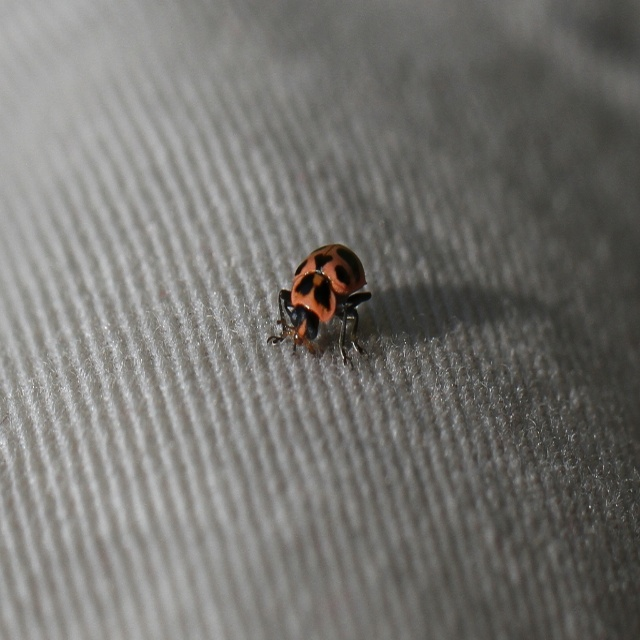Ladybug: (266, 241, 373, 373)
